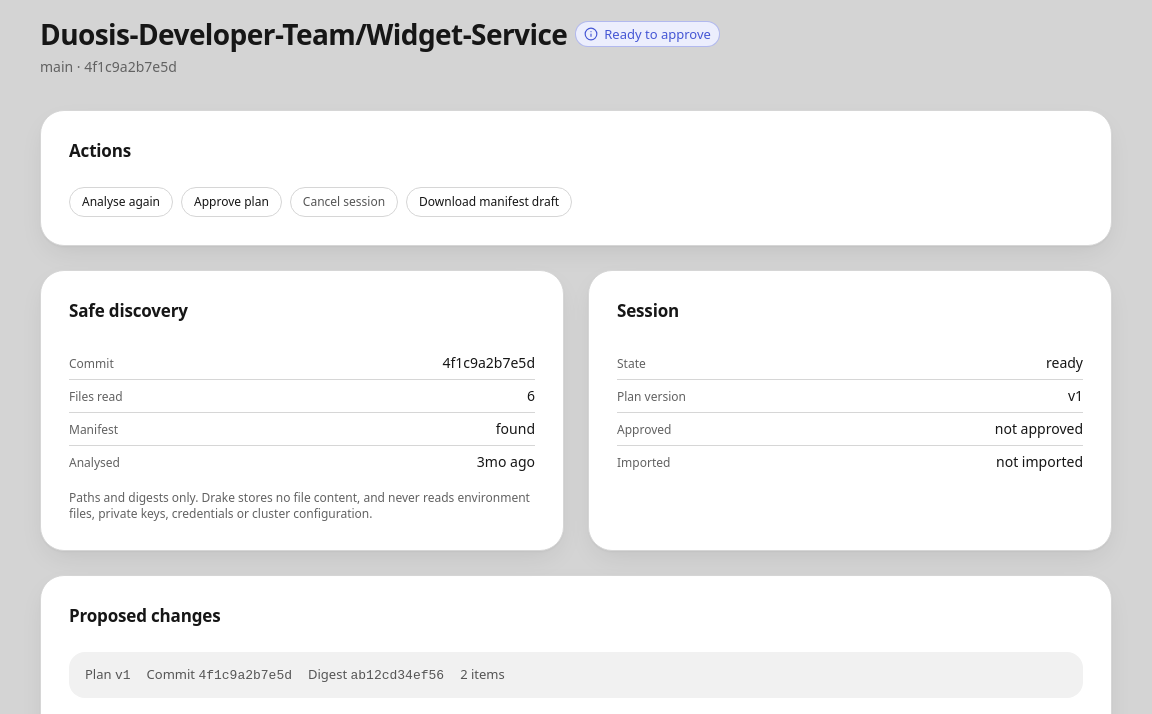
Test: session actions › refetches instead of retrying a stale client's action
Step 1. Click the button with test id "action-approve" → (231, 202), box 181,187 -> 282,217
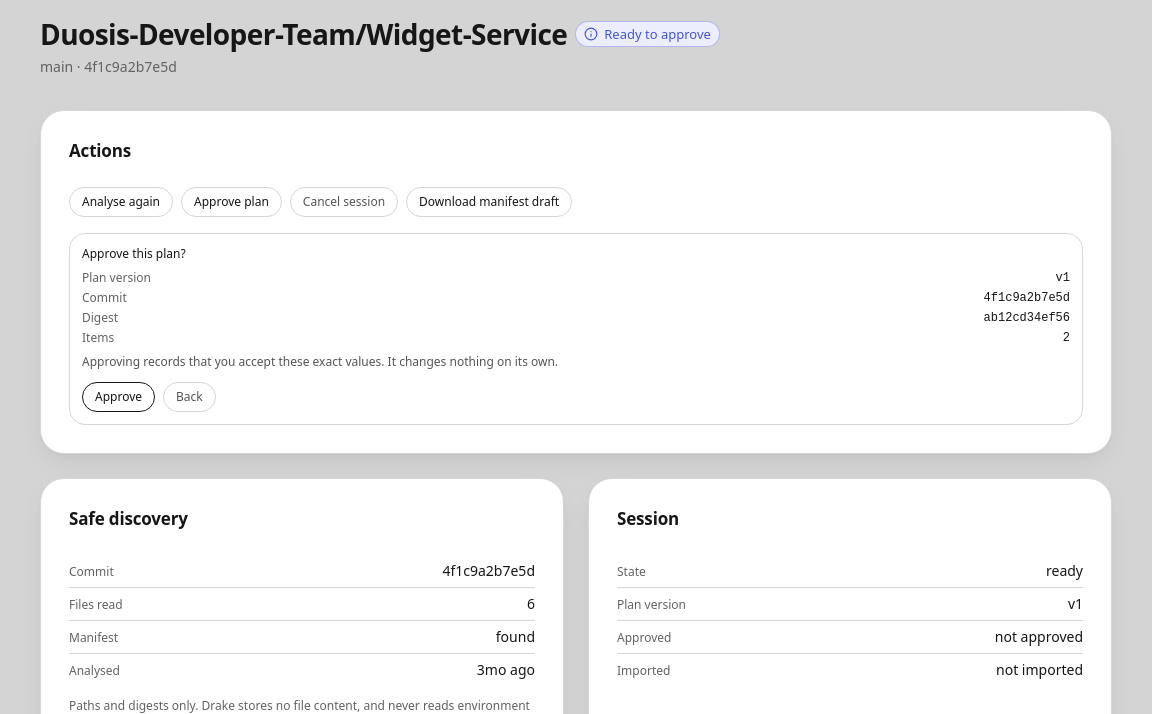
Step 2. Click the button with test id "confirm-approve-yes" → (118, 397), box 82,382 -> 155,412
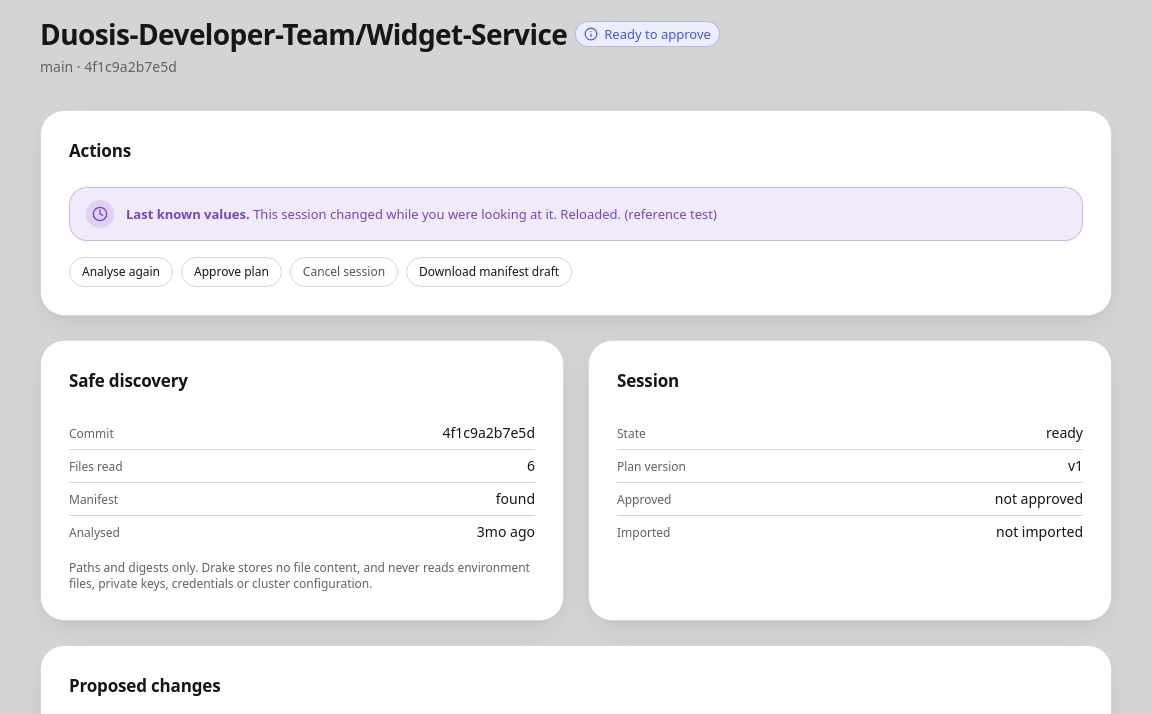
Check: the element with test id "action-error" shows "changed while you were", box 253,205 -> 717,223
Check: the element with test id "confirm-approve" is gone
